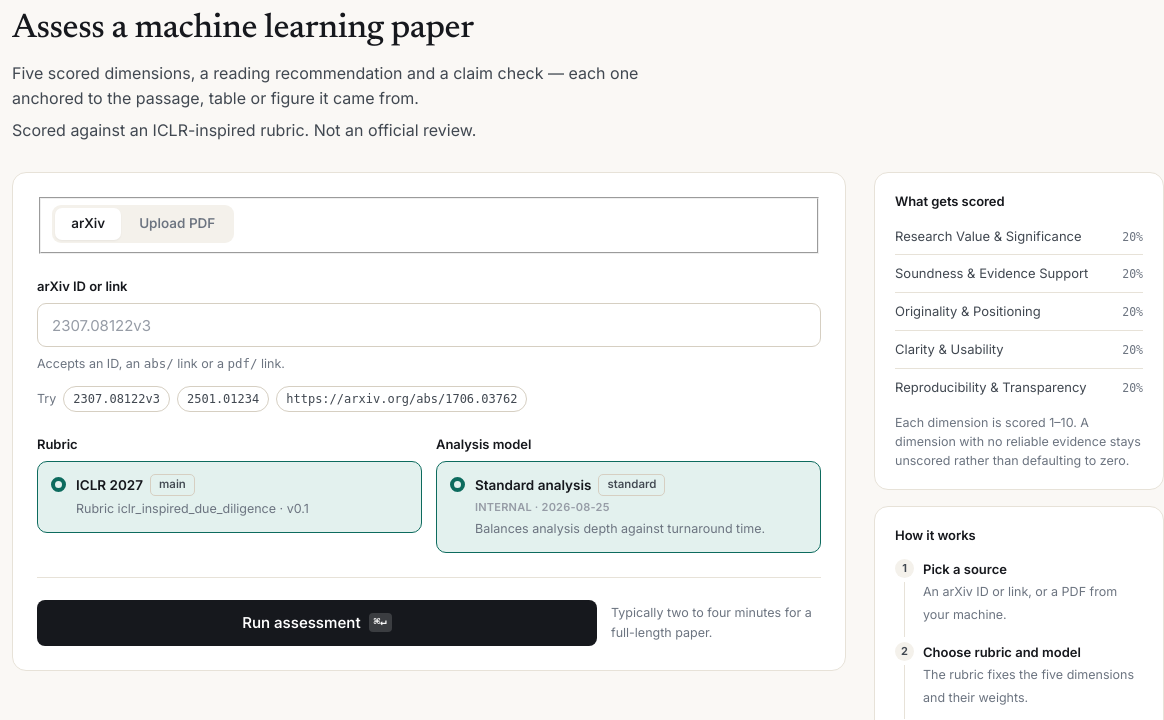
it: InputWorkspace › names the host when a non-arXiv link is pasted
This screenshot has width=1164, height=720.
In the field labelled "arXiv ID or link": (429, 325) [37,303,821,347], type "https://openreview.net/forum?id=x"
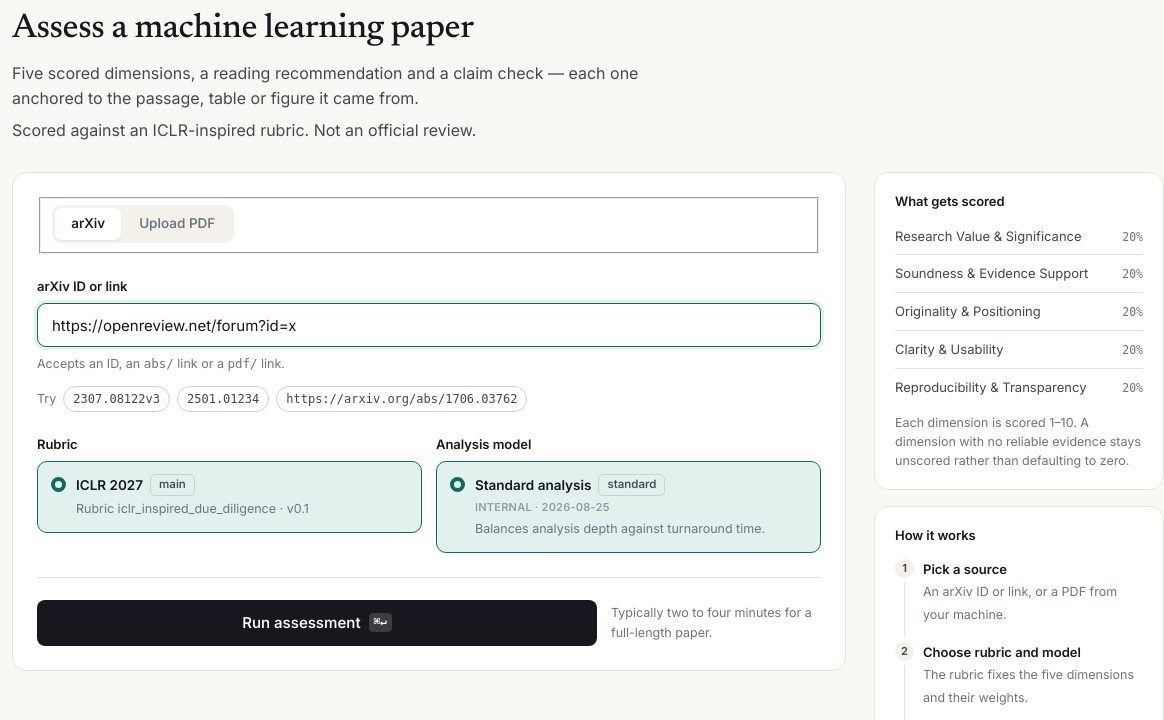
Click the button "Run assessment ⌘↵": click(317, 623) [37,600,597,646]
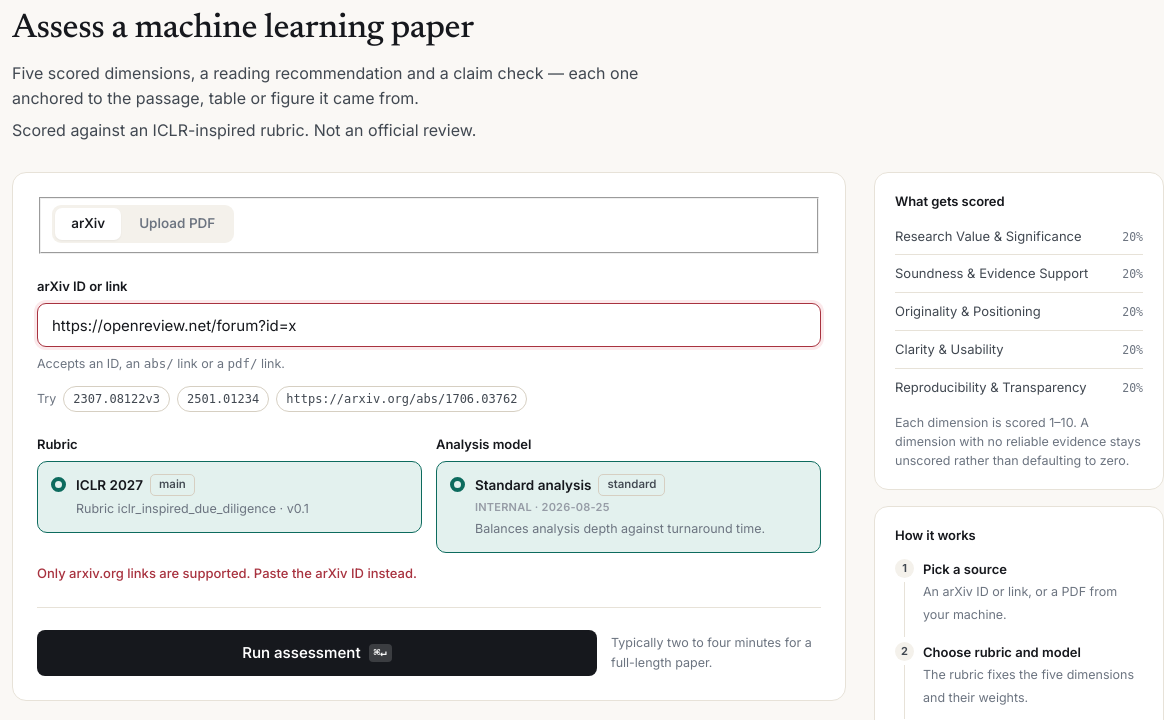
Expected: the message shows "Only arxiv.org links are supported", [37,565,417,581]
